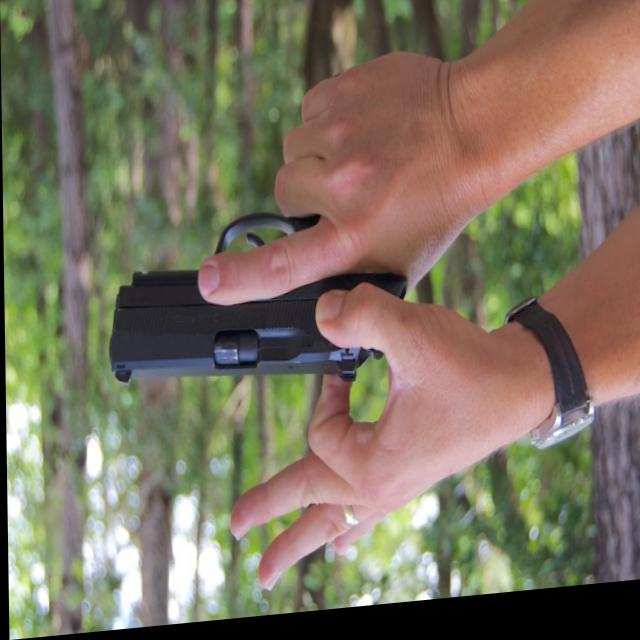handgun: (101, 200, 428, 411)
